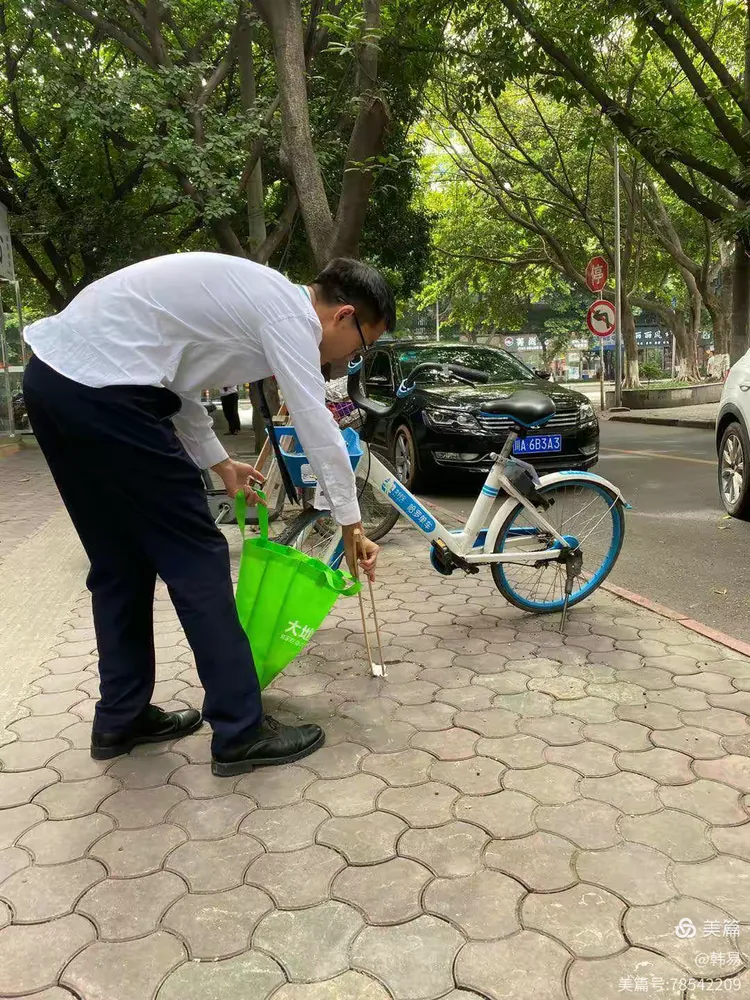bending: (11, 246, 428, 792)
